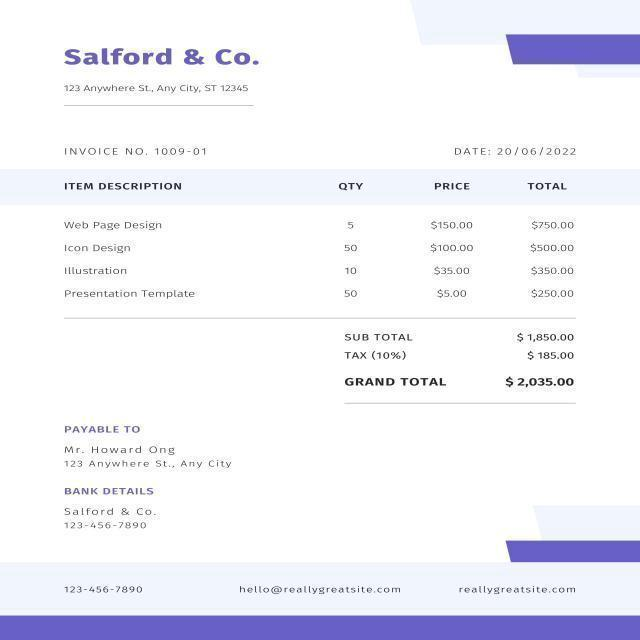paragraph: (58, 419, 238, 538), (336, 323, 584, 398), (53, 574, 582, 605), (59, 42, 264, 97), (60, 142, 212, 160), (446, 142, 586, 161)
table: (53, 169, 583, 308)
